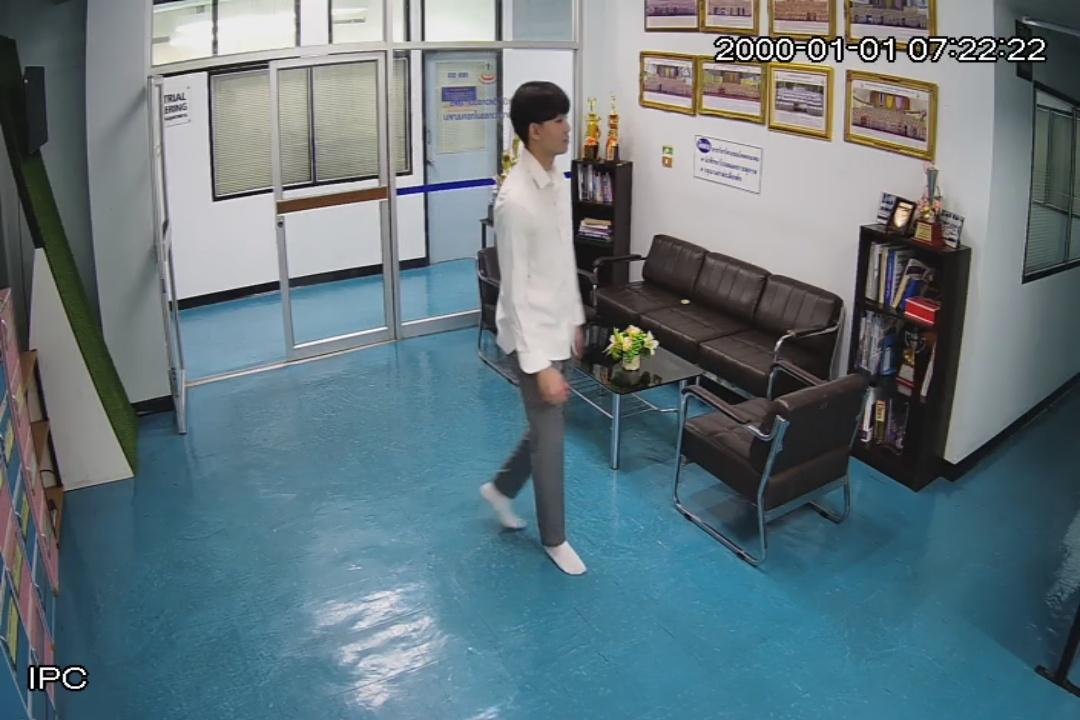normal: (485, 80, 587, 577)
